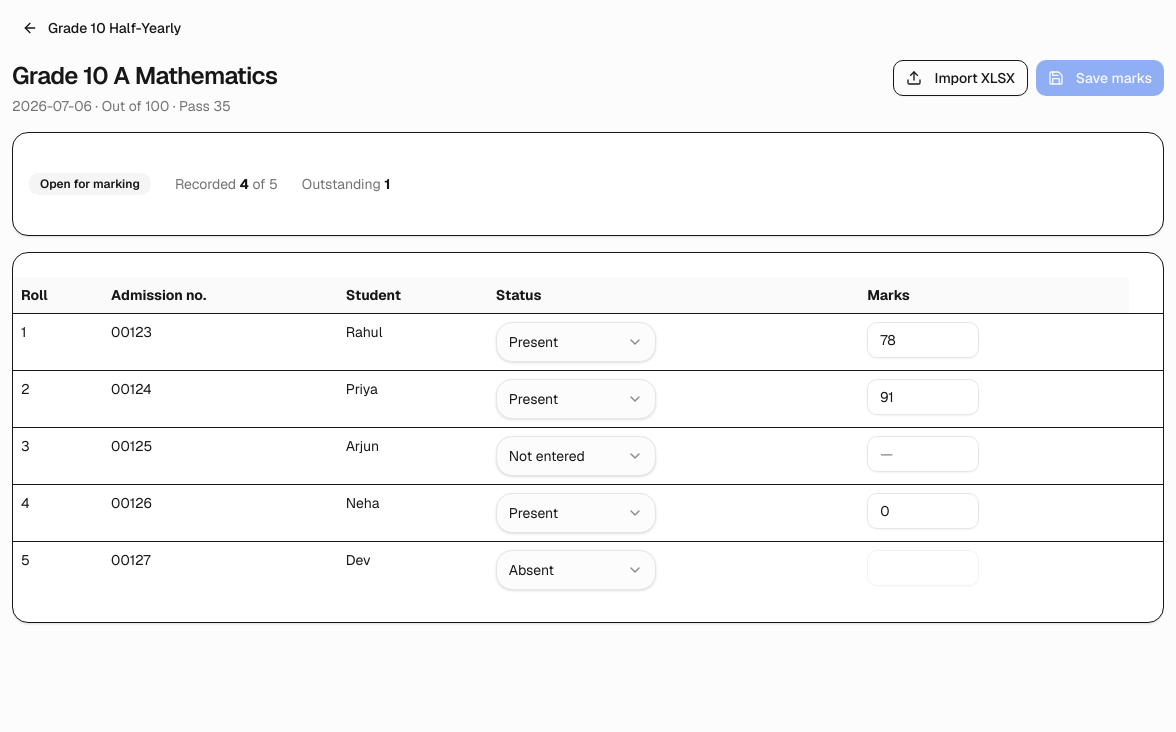
Test: marks register › keeps the draft and shows the refusal when a save fails
This screenshot has width=1176, height=732.
Expected: the text "Rahul" is shown, 338,314 -> 488,370
Type "55" into the field named "Marks for Arjun" at (923, 454), box 867,436 -> 979,472
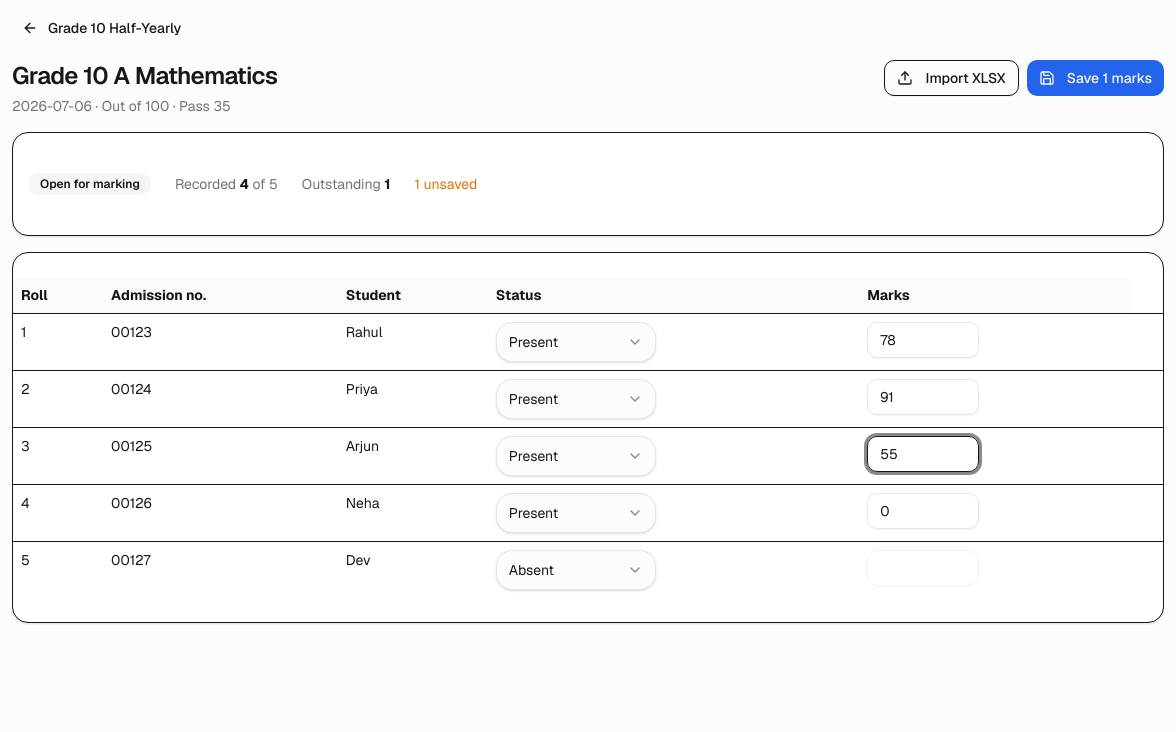
Click the button "Save 1 marks" at (1095, 78), box 1027,60 -> 1164,96
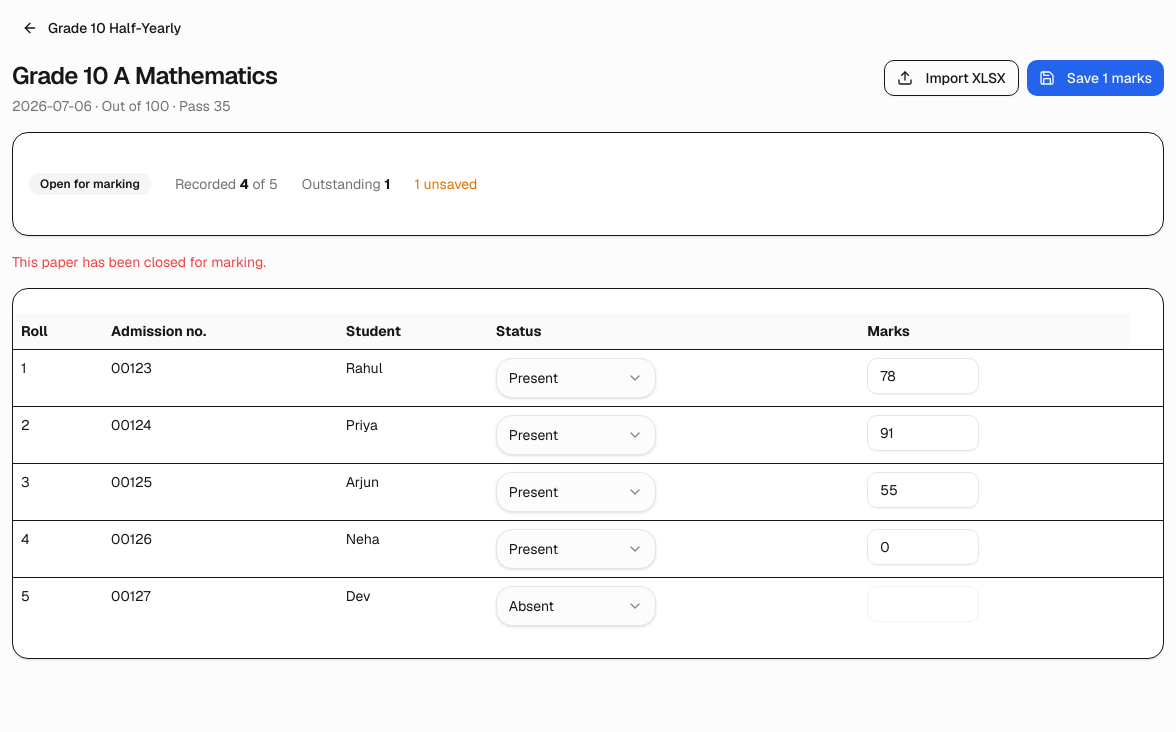
Expected: the text "1 unsaved" is shown, 414,174 -> 477,194
Expected: the message shows "closed for marking", 12,253 -> 266,271
